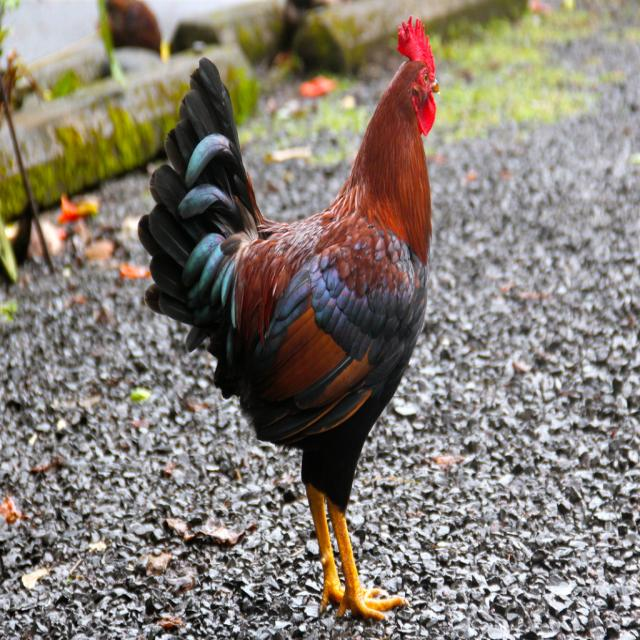Chicken: (132, 22, 446, 623)
